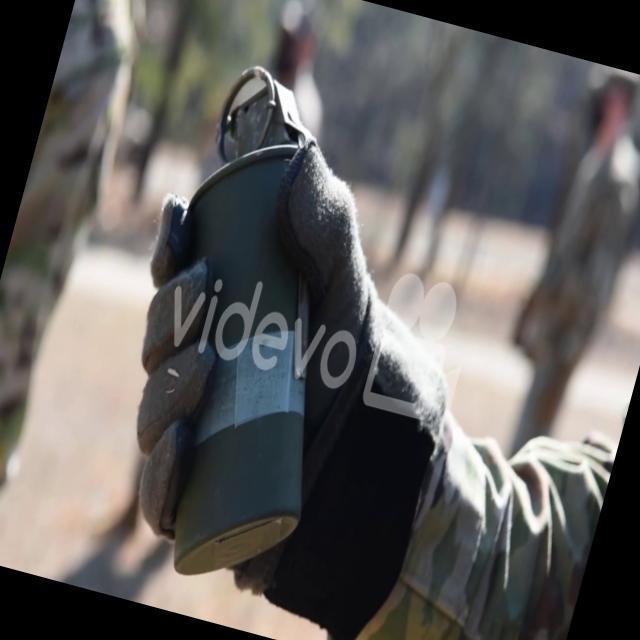grenade: (84, 58, 408, 603)
